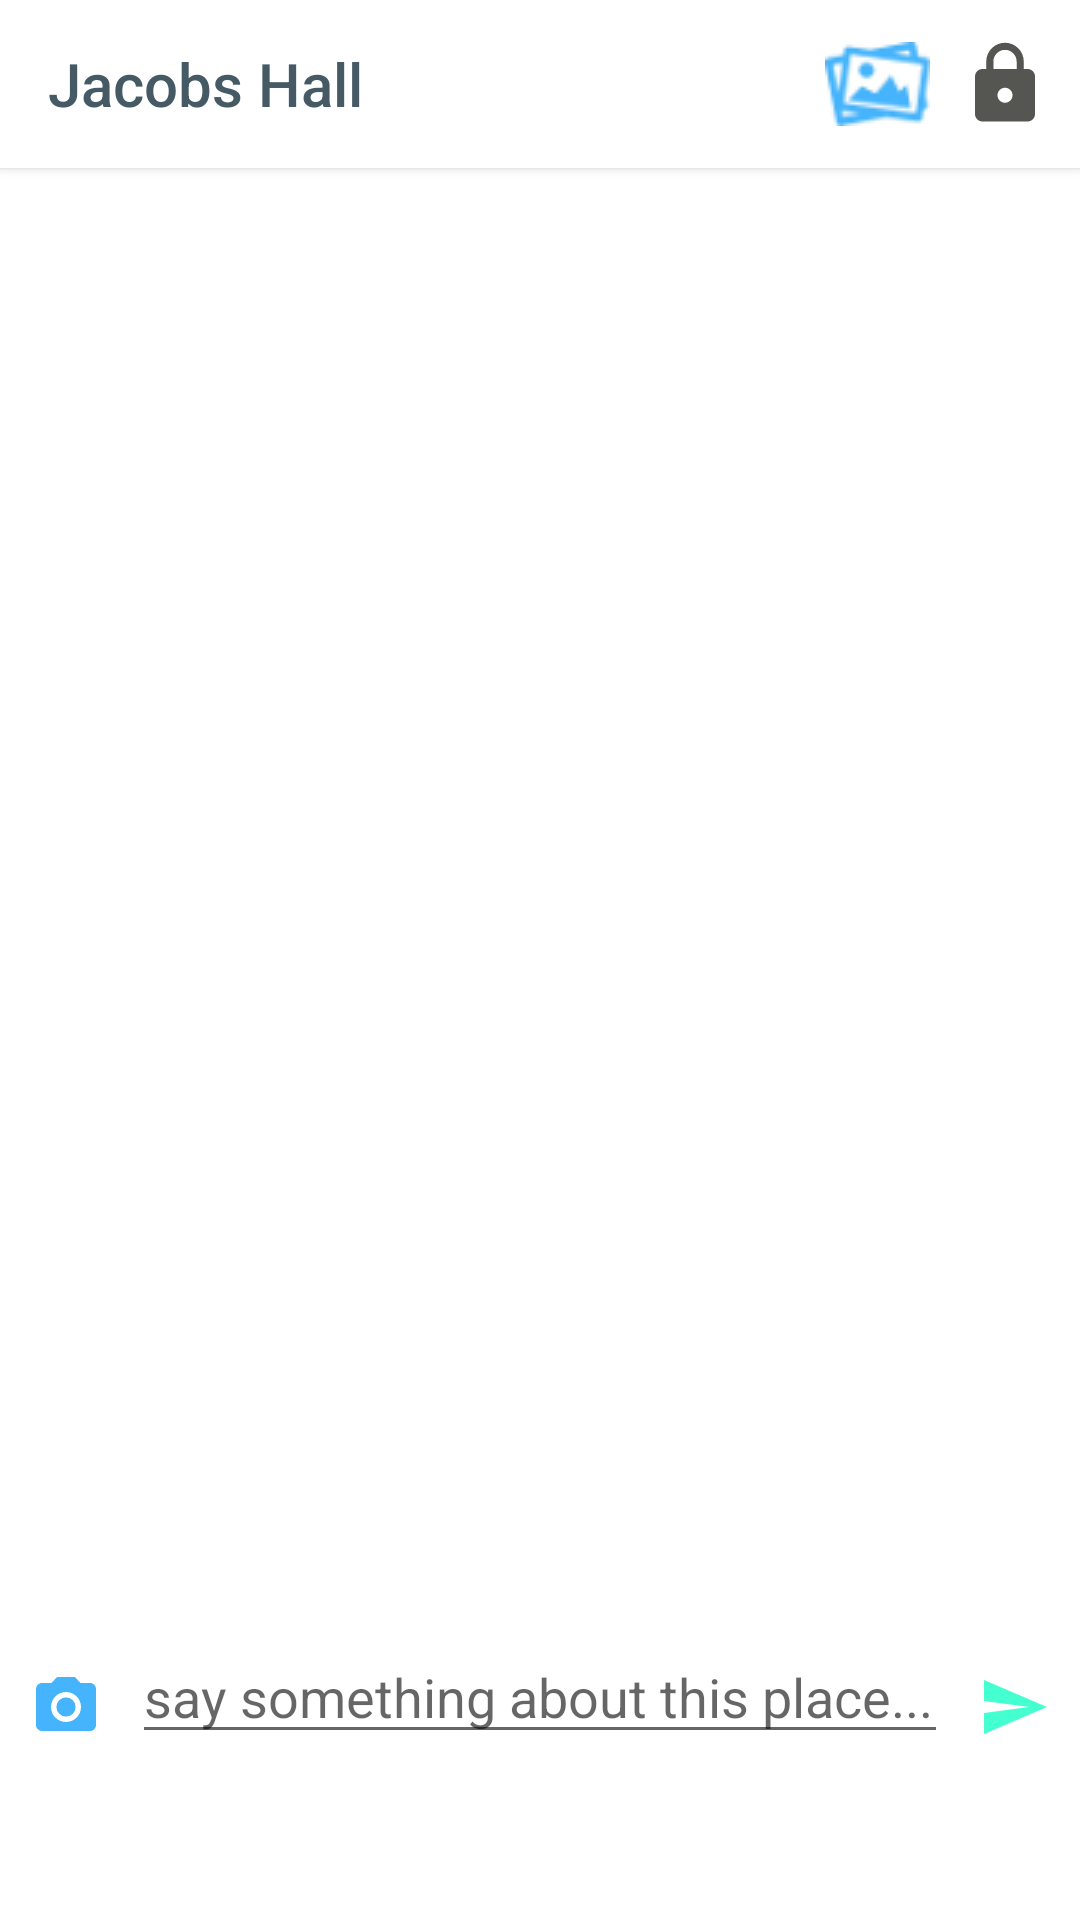

Screen size 1080 x 1920. Icon name, then its box in pixels as [x1,y1,x2,y2]:
camera: [36,1677,96,1731]
lock: [975,42,1035,122]
send: [984,1680,1047,1734]
